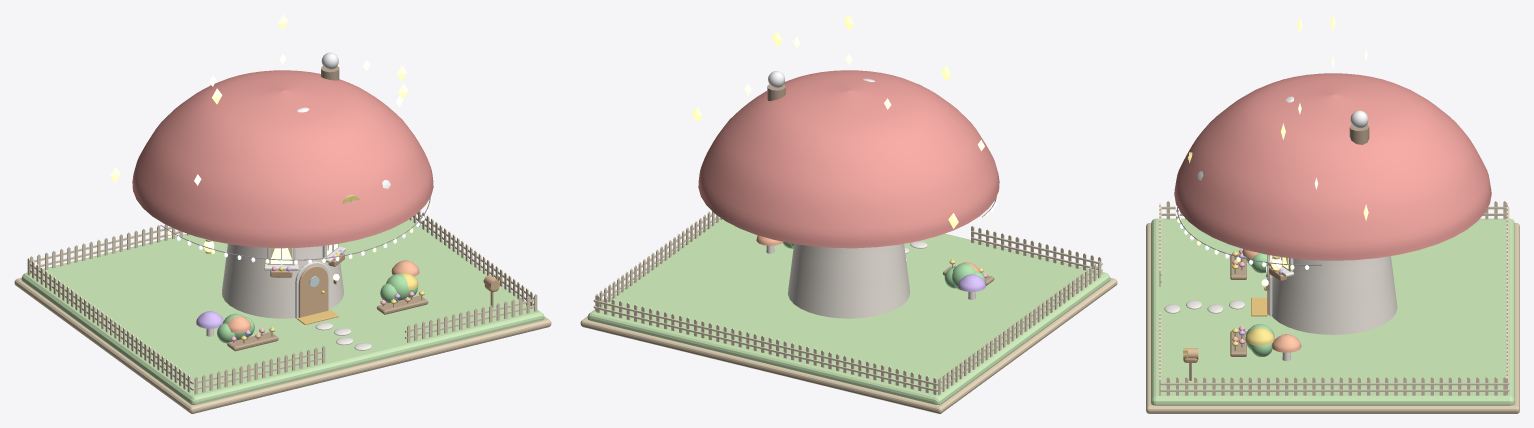
Rendered from building_forest_L10.glb.
The picture shows the model from 3 angles, left to right: view 1: azimuth 30°, elevation 25°; view 2: azimuth 150°, elevation 25°; view 3: azimuth 270°, elevation 25°; orthographic projection. The views are drawn at different scales.
Visible parts, largest first — view 1: forest_L10; view 2: forest_L10; view 3: forest_L10.
Boxes of the visible parts, x1,y1,x2,y2 form: forest_L10: (14,14,551,413); forest_L10: (580,14,1117,413); forest_L10: (1146,15,1519,413).
Bounding box in the file's own units: 26.61 × 20.56 × 22.6.
